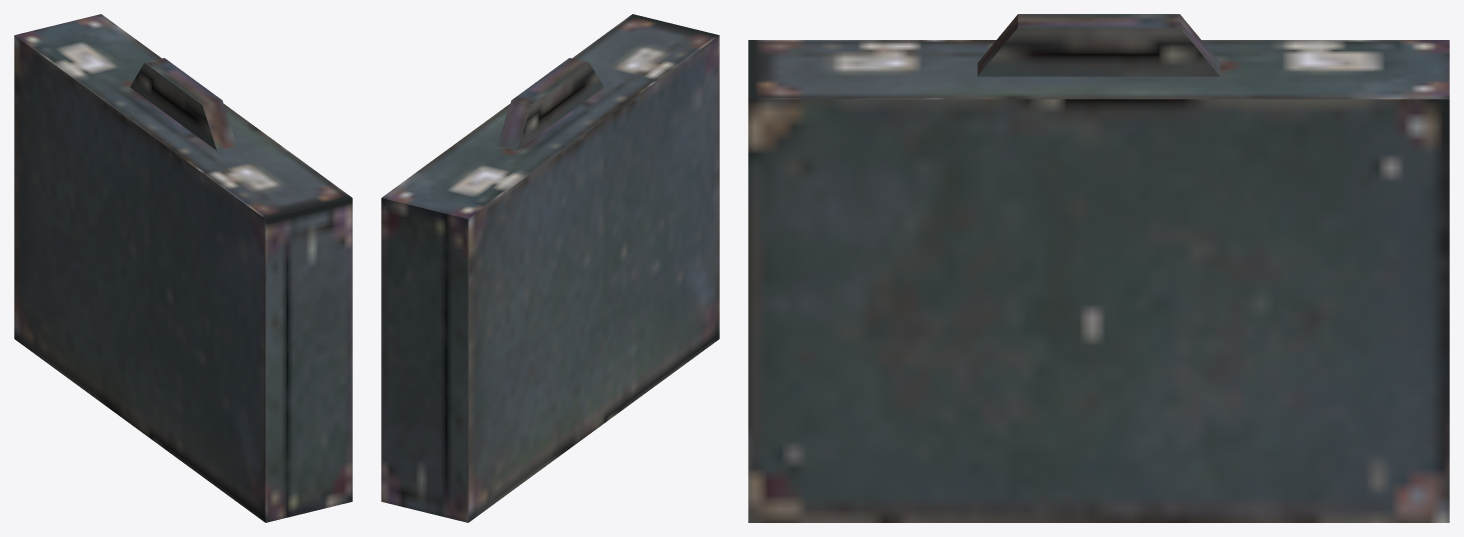
The model's file is Briefcase01a.obj.
The picture shows the model from 3 angles, left to right: view 1: azimuth 30°, elevation 25°; view 2: azimuth 150°, elevation 25°; view 3: azimuth 270°, elevation 25°; orthographic projection. The views are drawn at different scales.
Parts seen in each view (by area): view 1: Briefcase01a; view 2: Briefcase01a; view 3: Briefcase01a.
Boxes of the visible parts, bbox=[...] form: Briefcase01a: bbox=[14, 14, 352, 522]; Briefcase01a: bbox=[381, 14, 719, 522]; Briefcase01a: bbox=[748, 14, 1449, 522].
Bounding box in the file's own units: 0.225 × 0.8366 × 1.12.
